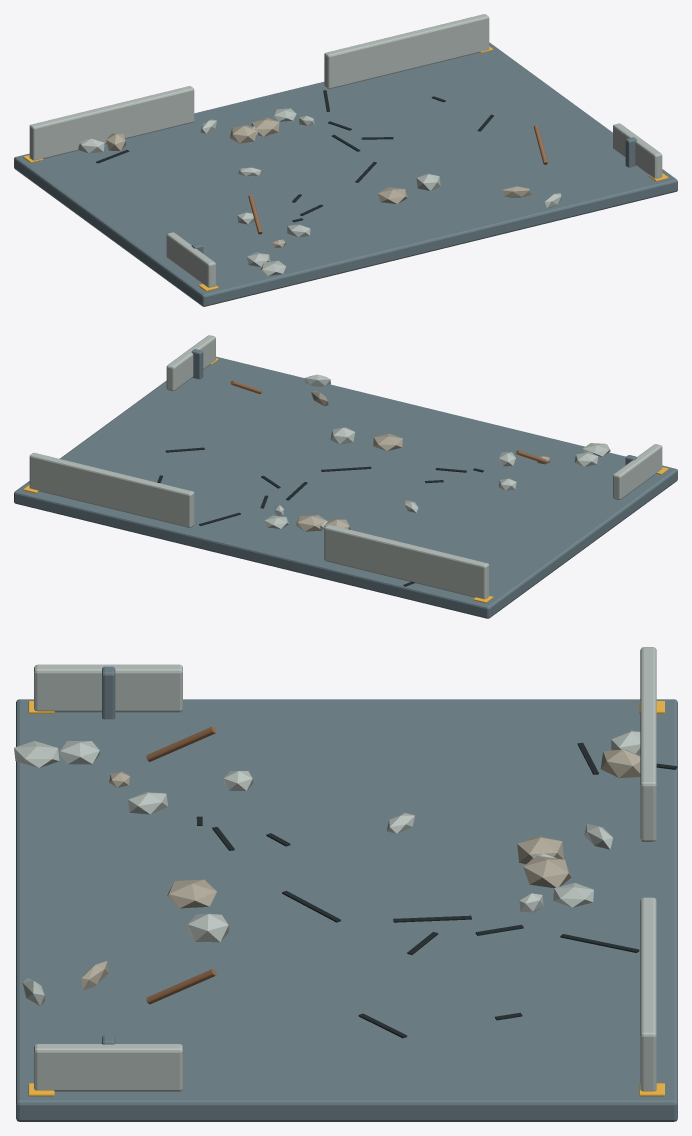
File: research_xenobiology_d3.glb
The picture shows the model from 3 angles, top to bottom: view 1: azimuth 30°, elevation 25°; view 2: azimuth 150°, elevation 25°; view 3: azimuth 270°, elevation 25°; orthographic projection. The views are drawn at different scales.
Parts seen in each view (by area): view 1: Foundation.015, End bulkhead.055, End bulkhead.054, Side pressure panel.090, Side pressure panel.091; view 2: Foundation.015, End bulkhead.055, End bulkhead.054, Side pressure panel.090, Side pressure panel.091; view 3: Foundation.015, Side pressure panel.091, Side pressure panel.090, End bulkhead.054, End bulkhead.055, Bounded fractured debris.095, Bounded fractured debris.092, Bounded fractured debris.094, Bounded fractured debris.098, Bounded fractured debris.100, Bounded fractured debris.101, Bounded fractured debris.091 (+3 smaller).
Part boxes in pixels (left/top/right/bottom): Foundation.015: left=14, top=42, right=677, bottom=306; End bulkhead.055: left=324, top=14, right=489, bottom=89; End bulkhead.054: left=29, top=86, right=194, bottom=160; Side pressure panel.090: left=166, top=232, right=215, bottom=287; Side pressure panel.091: left=613, top=123, right=662, bottom=178; Foundation.015: left=14, top=356, right=677, bottom=618; End bulkhead.055: left=29, top=452, right=194, bottom=527; End bulkhead.054: left=324, top=524, right=489, bottom=599; Side pressure panel.090: left=613, top=444, right=662, bottom=499; Side pressure panel.091: left=166, top=335, right=215, bottom=391; Foundation.015: left=16, top=699, right=677, bottom=1121; Side pressure panel.091: left=34, top=1044, right=182, bottom=1091; Side pressure panel.090: left=34, top=664, right=182, bottom=712; End bulkhead.054: left=640, top=647, right=656, bottom=841; End bulkhead.055: left=640, top=897, right=656, bottom=1091; Bounded fractured debris.095: left=523, top=855, right=571, bottom=887; Bounded fractured debris.092: left=167, top=879, right=216, bottom=908; Bounded fractured debris.094: left=188, top=914, right=228, bottom=942; Bounded fractured debris.098: left=600, top=749, right=640, bottom=778; Bounded fractured debris.100: left=14, top=741, right=59, bottom=767; Bounded fractured debris.101: left=517, top=835, right=564, bottom=864; Bounded fractured debris.091: left=60, top=741, right=99, bottom=764.
Bounding box in the file's own units: 13 × 1.22 × 9.03.
